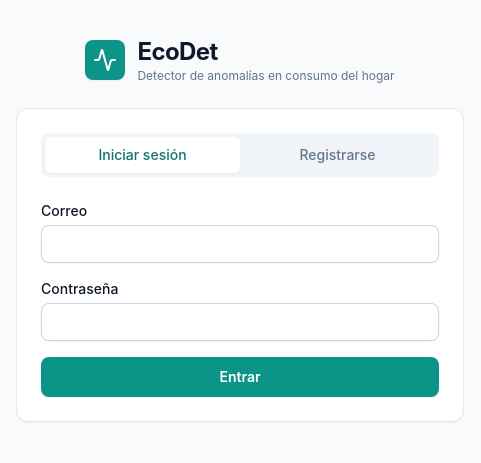
Test: Flujo completo de HU-03 (Iniciar sesión) › criterio 3 · campos vacíos: errores debajo de cada campo y no se envía el formulario
Click the button "Entrar": [240, 377] box [41, 357, 439, 397]
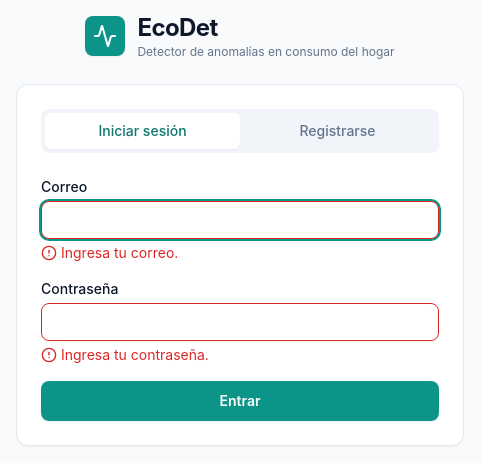
expect the text "Ingresa tu correo." is shown: met, box [61, 243, 178, 263]
expect the text "Ingresa tu contraseña." is shown: met, box [61, 345, 209, 365]
